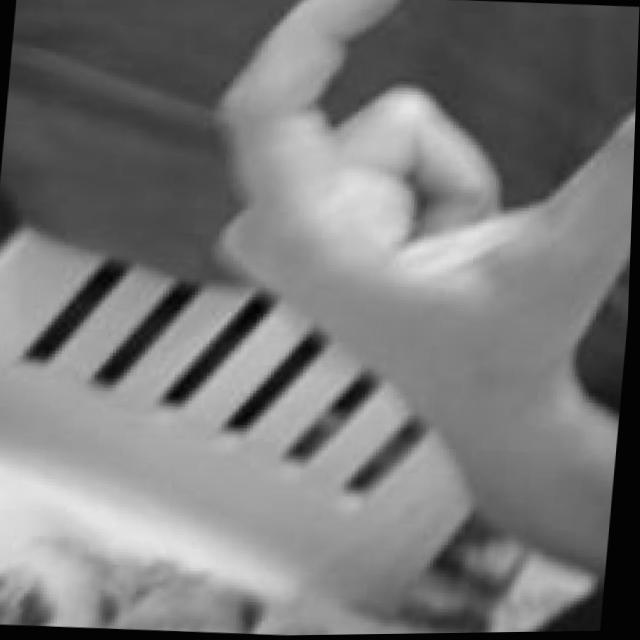U: (184, 0, 640, 429)
